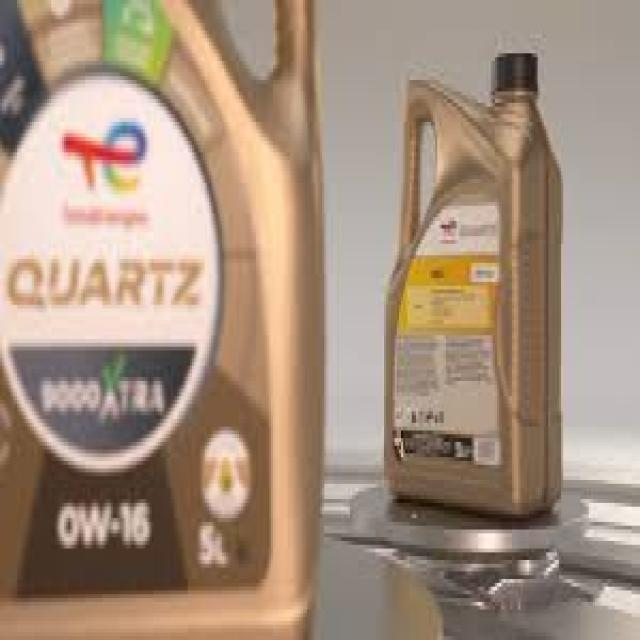motor_oil: (380, 39, 568, 498)
